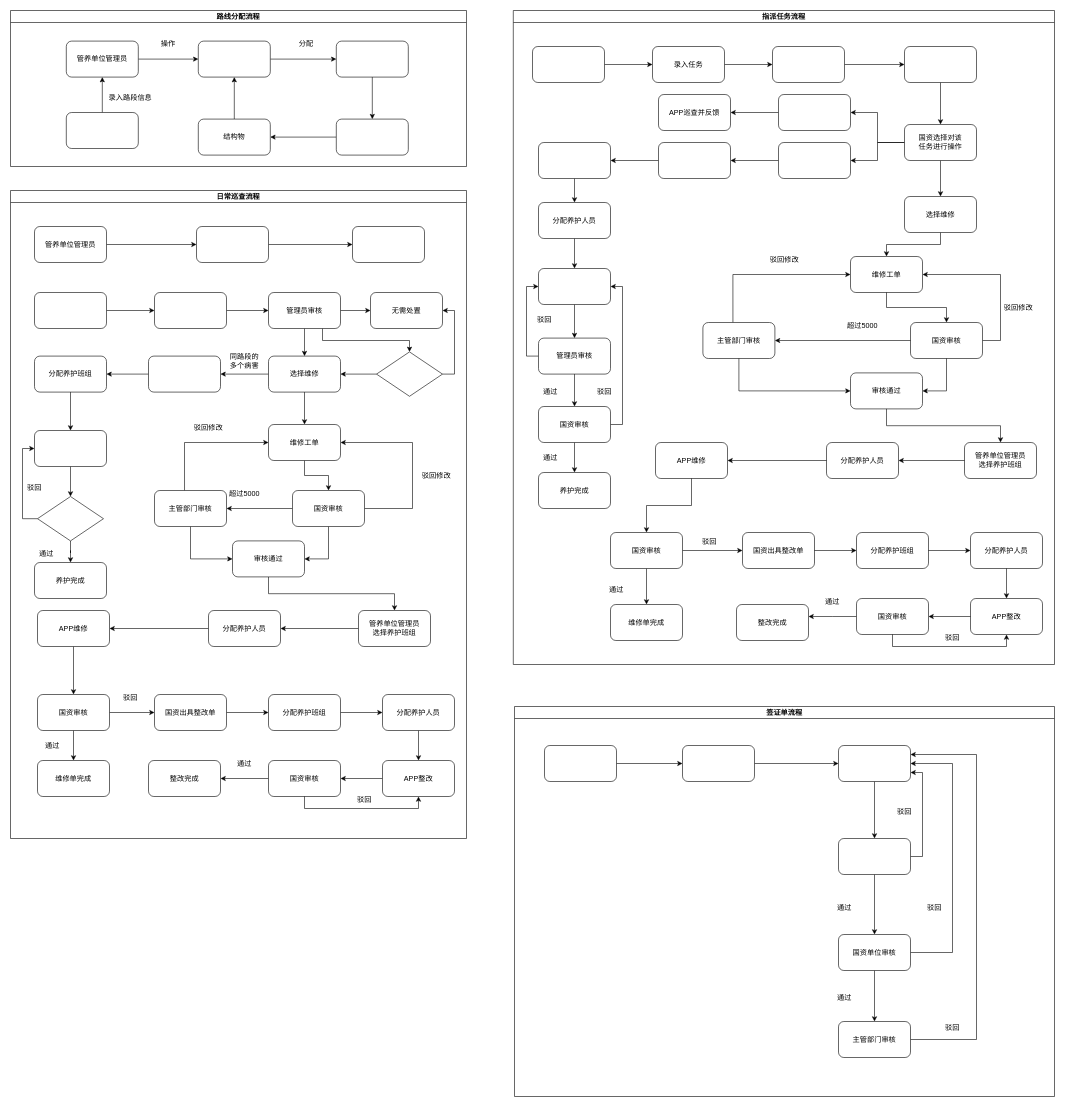
Some shapes in this 1065 by 1107 pixel diagram are drawn without their labels. Each missing label, with the centre of its shape:
APP上养护: the point at 574,286
APP养护: the point at 70,448
APP巡查时 也可以添加: the point at 372,136
主管部门管理员: the point at 568,64
任务指派给国资: the point at 808,64
养护班组选择 维修工单: the point at 580,763
发现病害 故障上报: the point at 190,310
国资单位: the point at 102,130
审核: the point at 70,518
巡查人员: the point at 372,58
巡查员APP巡查: the point at 70,310
巡查操作，自动识别该路段的巡查分配人: the point at 814,112
新建养护工单: the point at 184,374
生成一条指派 任务记录: the point at 940,64
生成巡查规则记录: the point at 388,244
生成签证单: the point at 874,763
留待观察: the point at 409,373
管养单位 管理员审核: the point at 874,856
管养单位选择 养护班组: the point at 574,160
设置日常 巡查规则: the point at 232,244
路段信息: the point at 234,58
选择养护: the point at 814,160
选择养护公司: the point at 694,160
选择测绘报告: the point at 718,763
